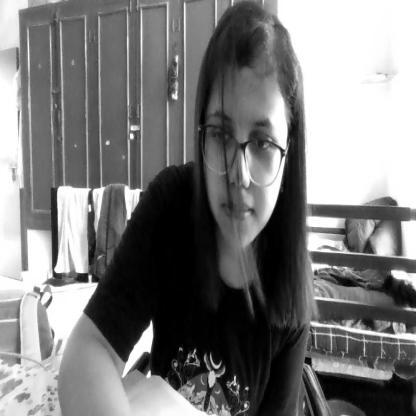Normal: (210, 7, 300, 262)
